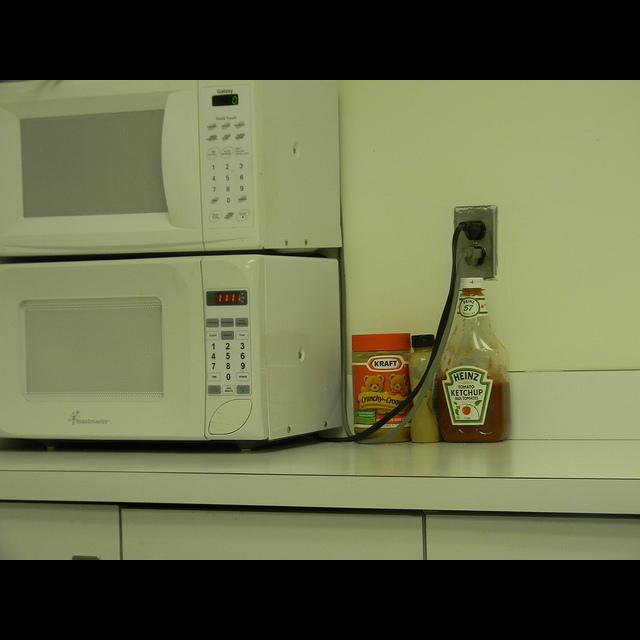Microwave: (0, 259, 347, 448), (0, 81, 343, 264)
